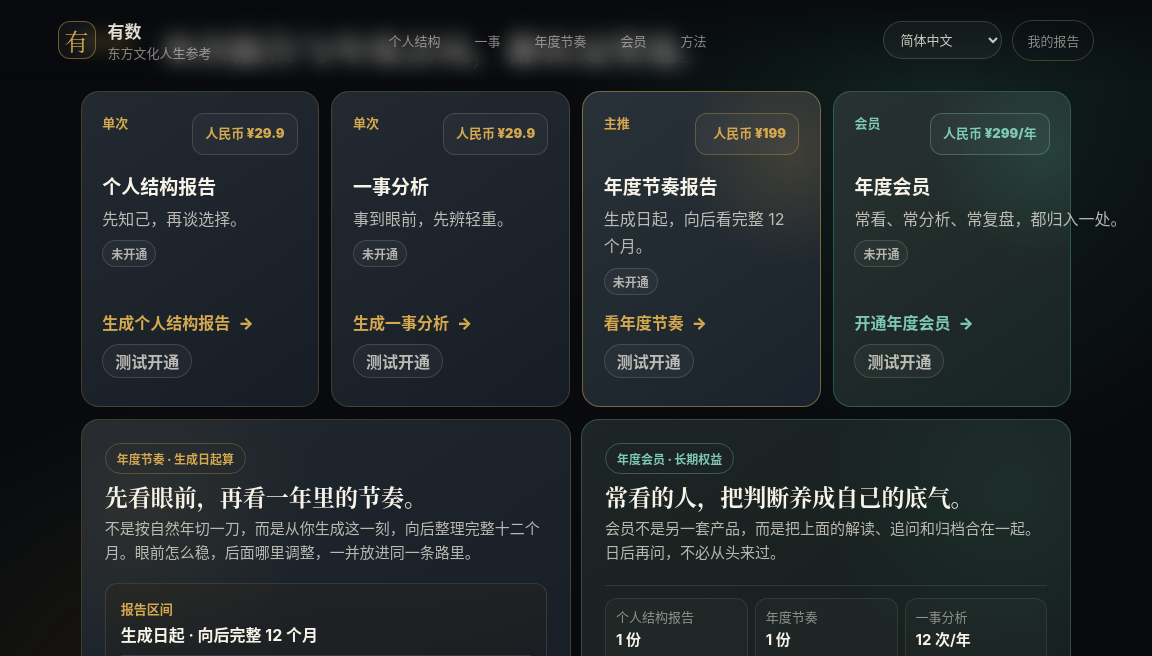
Test: Youshu homepage › renders report markdown emphasis and lists without leaking raw markers
(page scrolled)
Click the button with aria-label "测试开通：个人结构报告": (147, 361) [102,344,192,378]
(page scrolled)
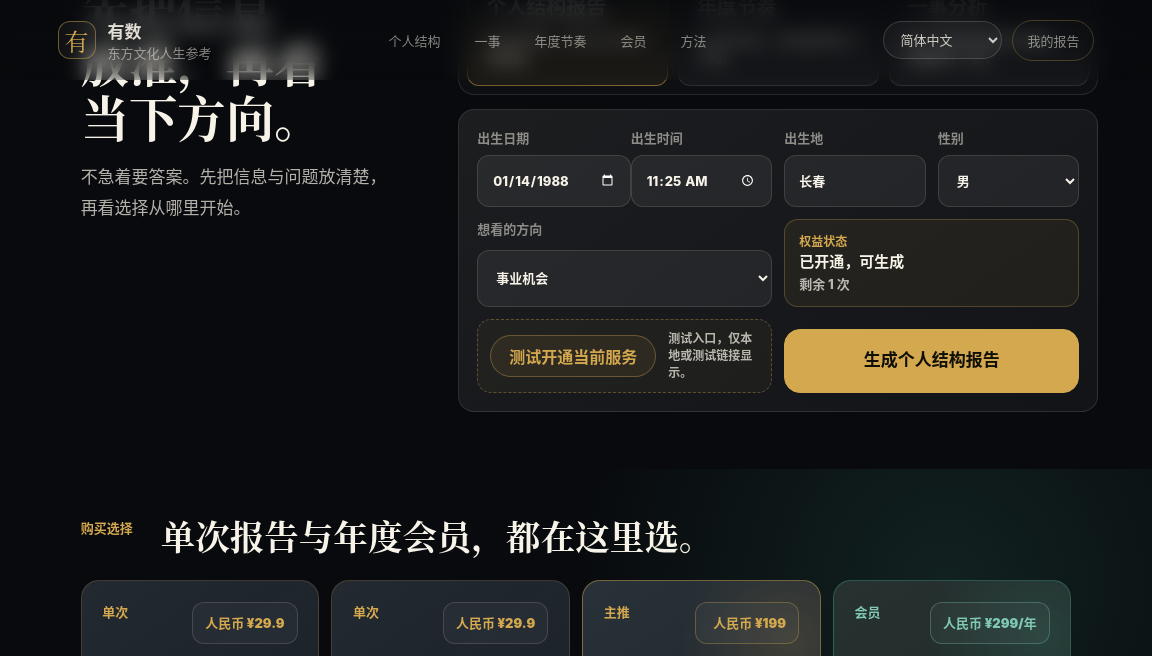
Click the button "生成个人结构报告": (932, 361) [784,329,1079,393]
(page scrolled)
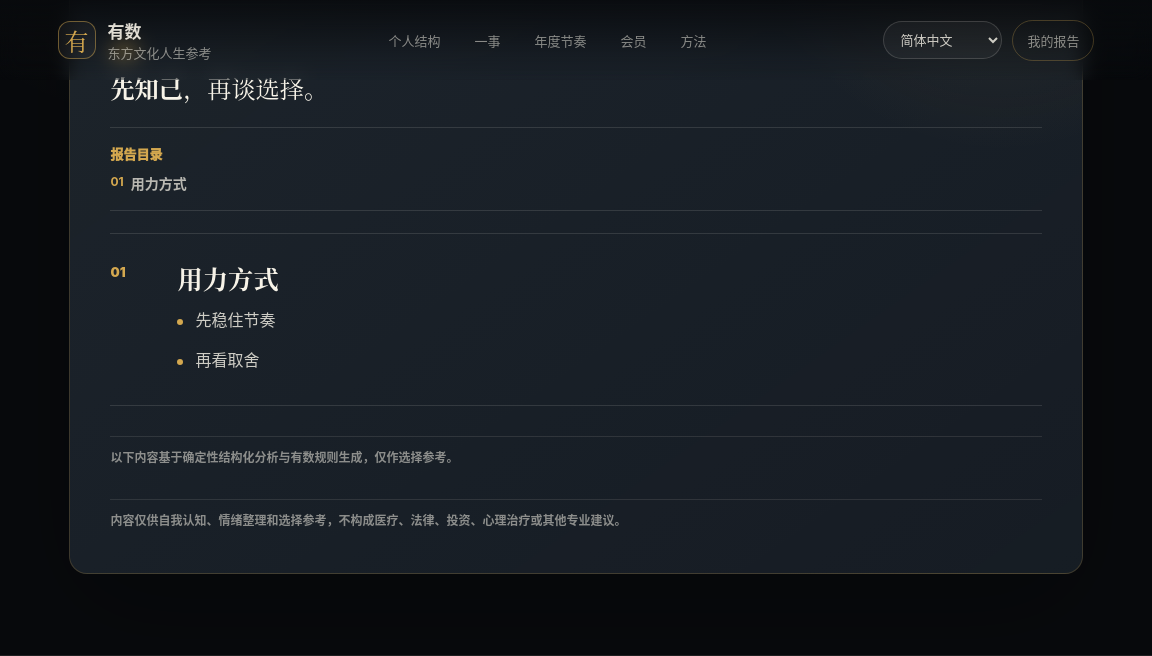
Expected: the text "先知己" is shown, [110,70,183,105]
Result: the list item "先稳住节奏" is shown at [196,310,276,330]
Result: the list item "再看取舍" is shown at [196,350,260,370]
